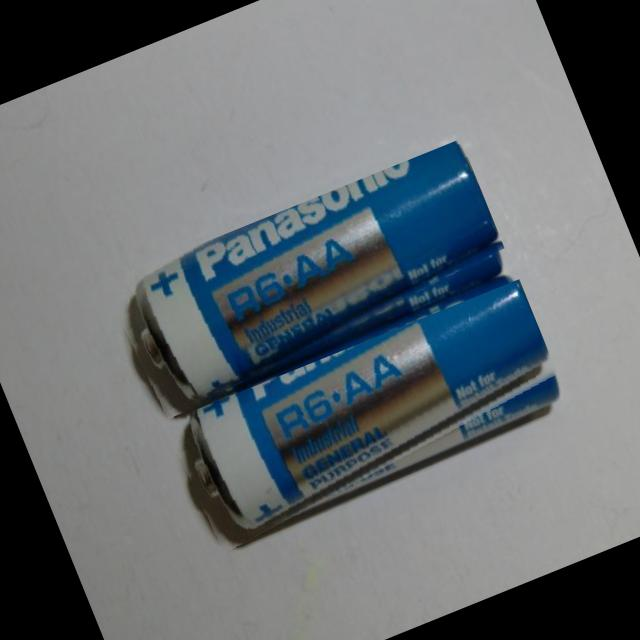Hazard: (102, 138, 516, 423), (164, 278, 573, 556)
